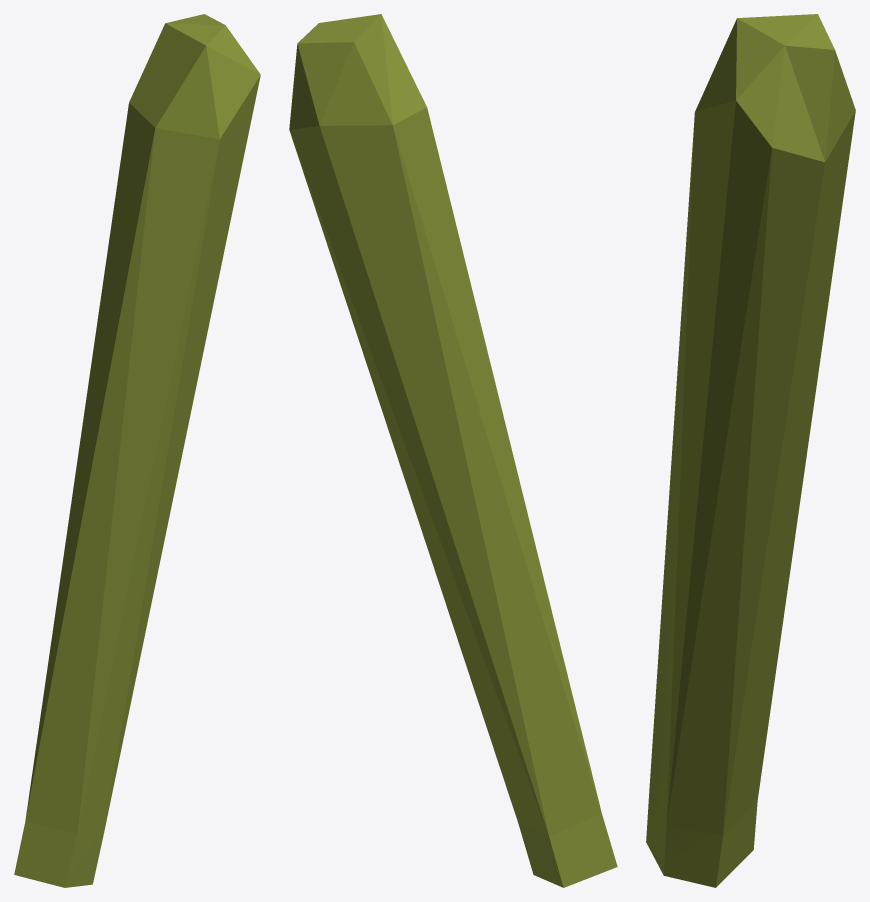
Rendered from ea_swamp_grass_01a_pre__41__lev1.glb.
3 views of the same model, side by side, from view 1: azimuth 30°, elevation 25°; view 2: azimuth 150°, elevation 25°; view 3: azimuth 270°, elevation 25° (orthographic). The views are drawn at different scales.
Visible parts, largest first — view 1: ea_swamp_grass_01a_pre__41__lev1; view 2: ea_swamp_grass_01a_pre__41__lev1; view 3: ea_swamp_grass_01a_pre__41__lev1.
Part boxes in pixels (x1=…): ea_swamp_grass_01a_pre__41__lev1: x1=14, y1=14, x2=260, y2=887; ea_swamp_grass_01a_pre__41__lev1: x1=289, y1=14, x2=617, y2=887; ea_swamp_grass_01a_pre__41__lev1: x1=646, y1=14, x2=855, y2=887.
Size of the model in its own units: 0.7043 by 1.94 by 0.3894.
1 material, 1 textured.
